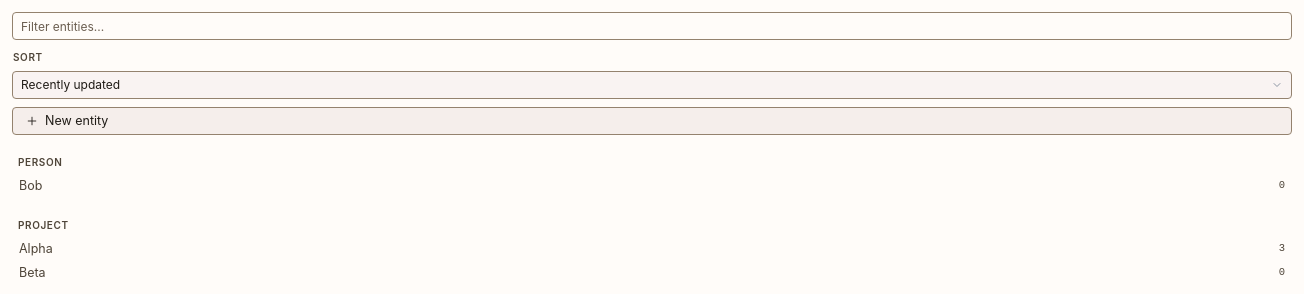
Scenario: EntityList › filter narrows the list by name
In the search field with placeholder "Filter entities...": (652, 26) [12, 12, 1292, 40], type "be"
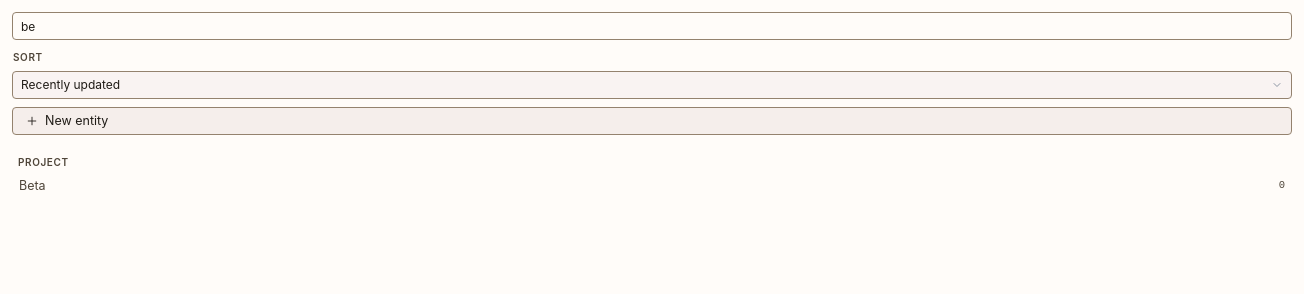
Expected: the button "Beta 0" is shown, [12, 174, 1292, 198]
Result: the button "Alpha" is gone
